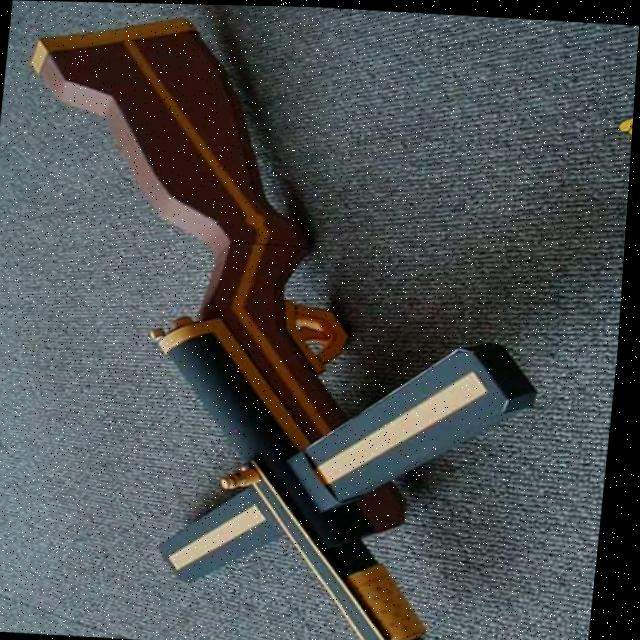firearm: (0, 4, 566, 640)
